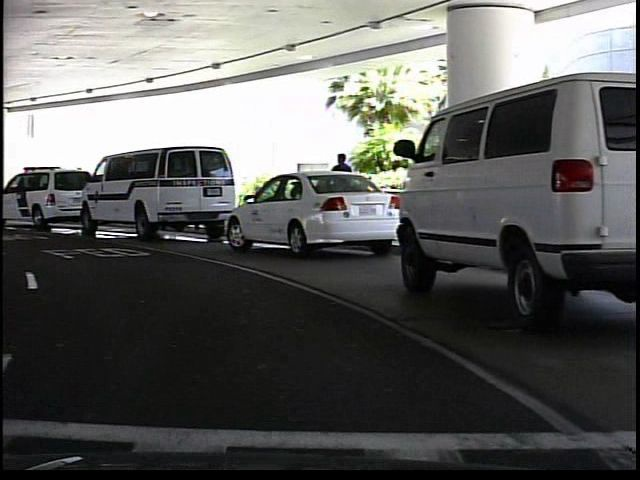person: (328, 149, 358, 234)
